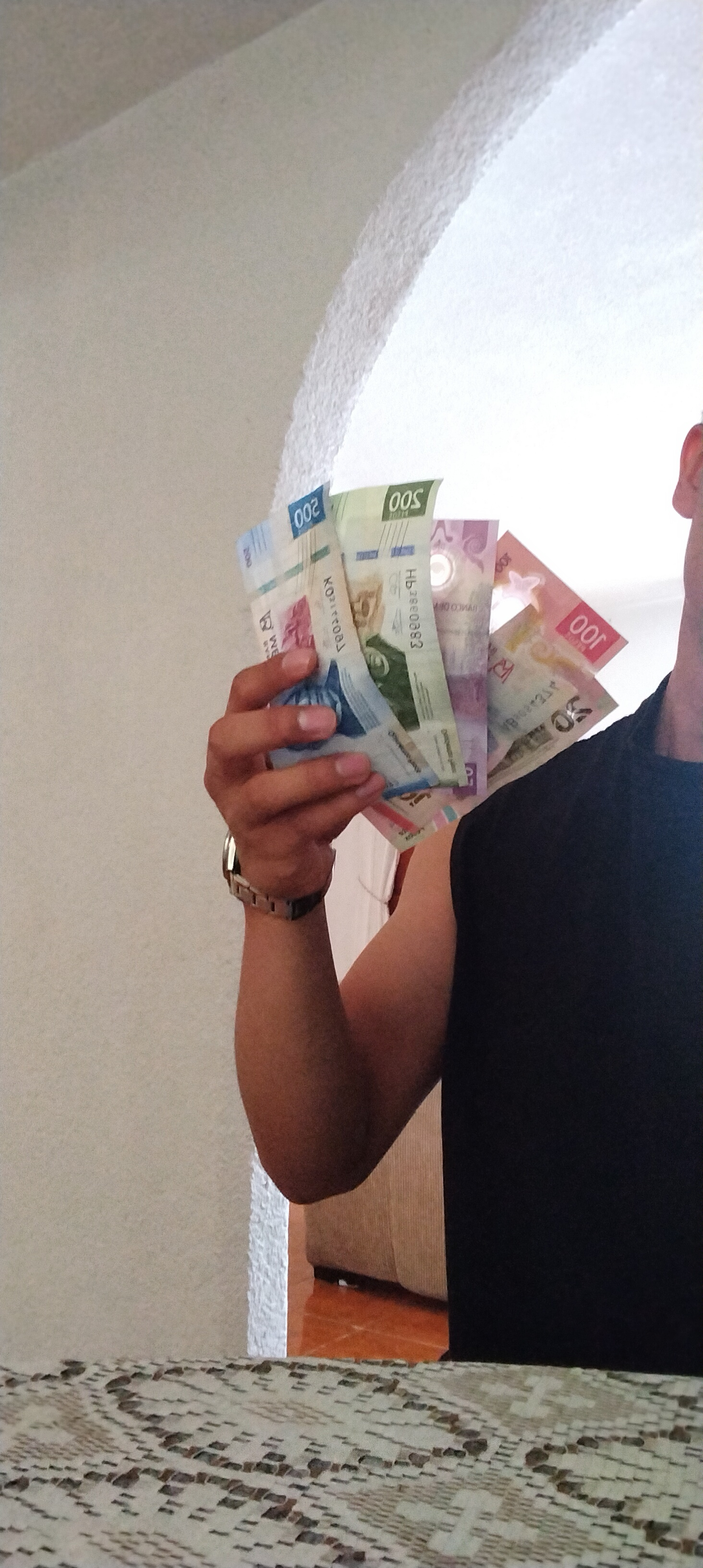billetes: (212, 463, 642, 861)
